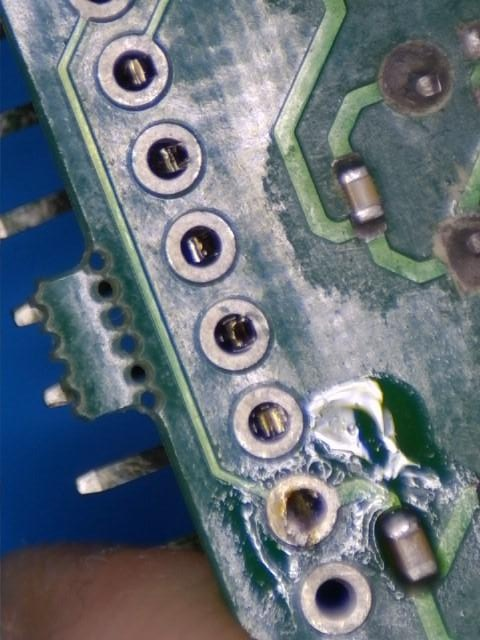pcb_defect: (266, 477, 336, 546)
